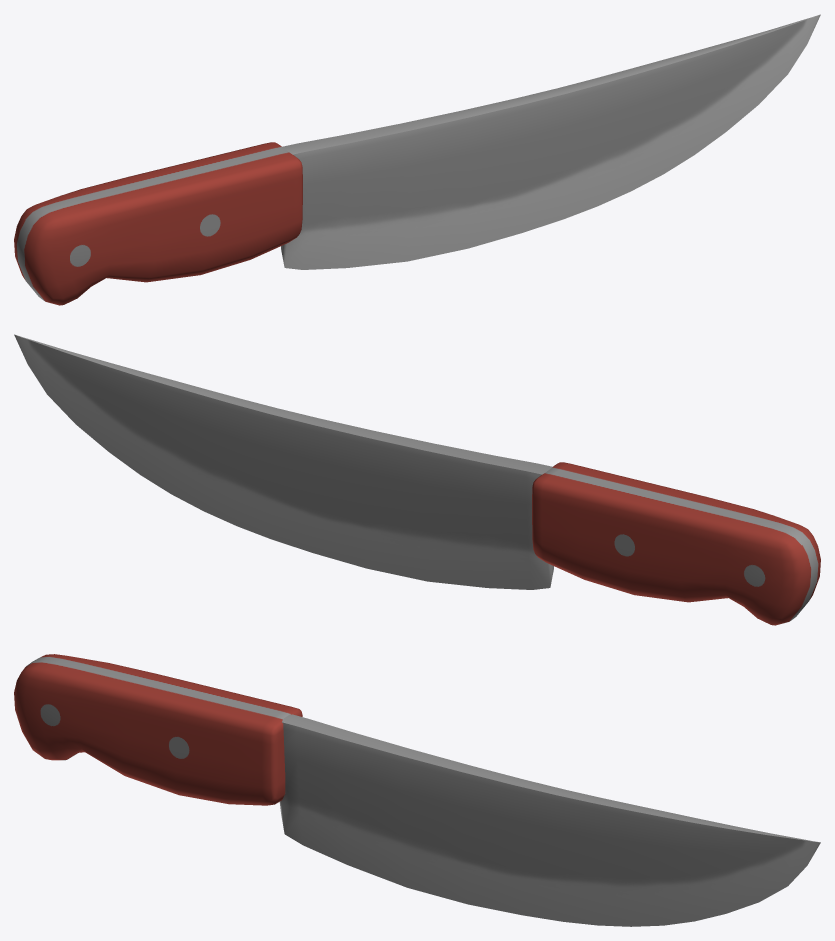
Rendered from knife.fbx.
3 views of the same model, one above another, from view 1: azimuth 30°, elevation 25°; view 2: azimuth 150°, elevation 25°; view 3: azimuth 330°, elevation 25° (orthographic).
Parts seen in each view (by area): view 1: knife; view 2: knife; view 3: knife.
Part boxes in pixels (box(x1,y1,x2,y2)): knife: box(14, 14, 820, 305); knife: box(14, 334, 820, 625); knife: box(14, 654, 820, 926).
Size of the model in its own units: 498 by 88 by 33.56.
